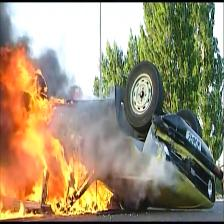fire: (0, 36, 119, 220)
smoke: (63, 87, 186, 208)
